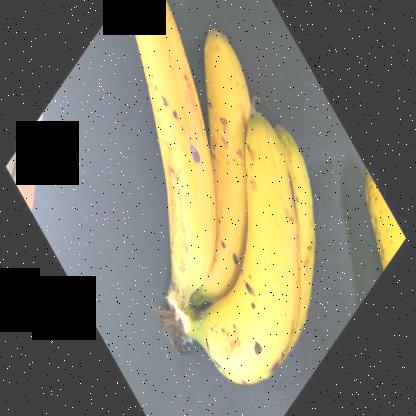ripe: (180, 119, 303, 378), (123, 0, 203, 313), (199, 26, 256, 309)
